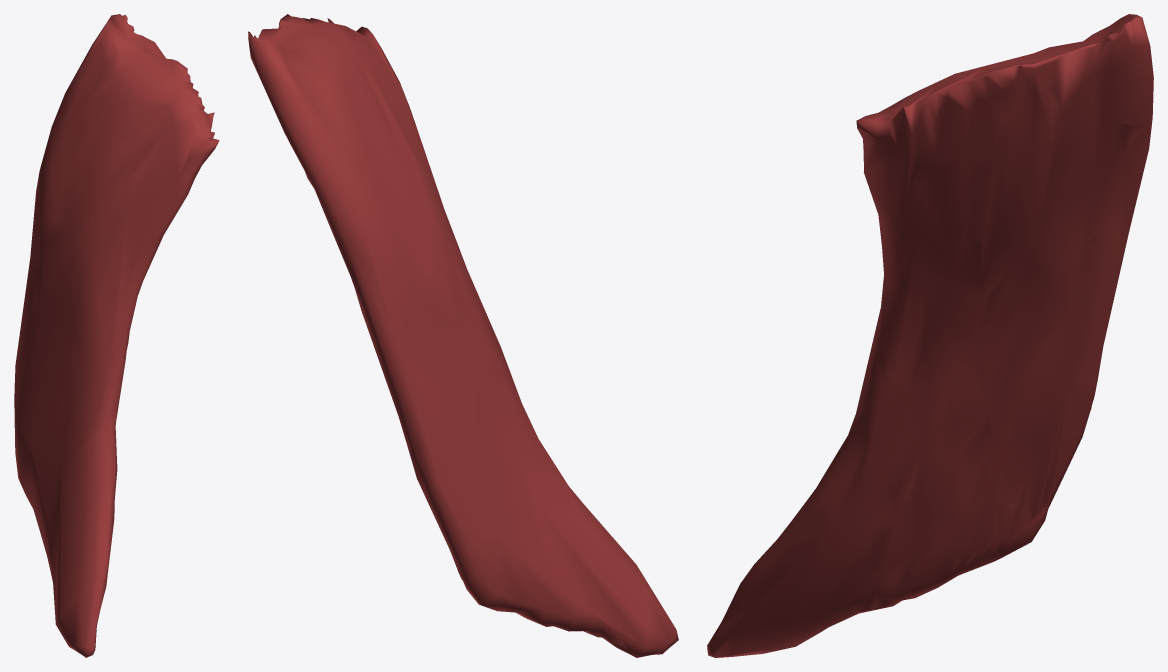
File: deep-part-of-masseter-l.glb
The picture shows the model from 3 angles, left to right: view 1: azimuth 30°, elevation 25°; view 2: azimuth 150°, elevation 25°; view 3: azimuth 270°, elevation 25°; orthographic projection. The views are drawn at different scales.
Visible parts, largest first — view 1: Deep part of masseter.l; view 2: Deep part of masseter.l; view 3: Deep part of masseter.l.
Boxes of the visible parts, x1=… form: Deep part of masseter.l: x1=14, y1=14, x2=219, y2=657; Deep part of masseter.l: x1=248, y1=14, x2=678, y2=657; Deep part of masseter.l: x1=707, y1=14, x2=1153, y2=657.
Size of the model in its own units: 0.027 by 0.0655 by 0.0346.
